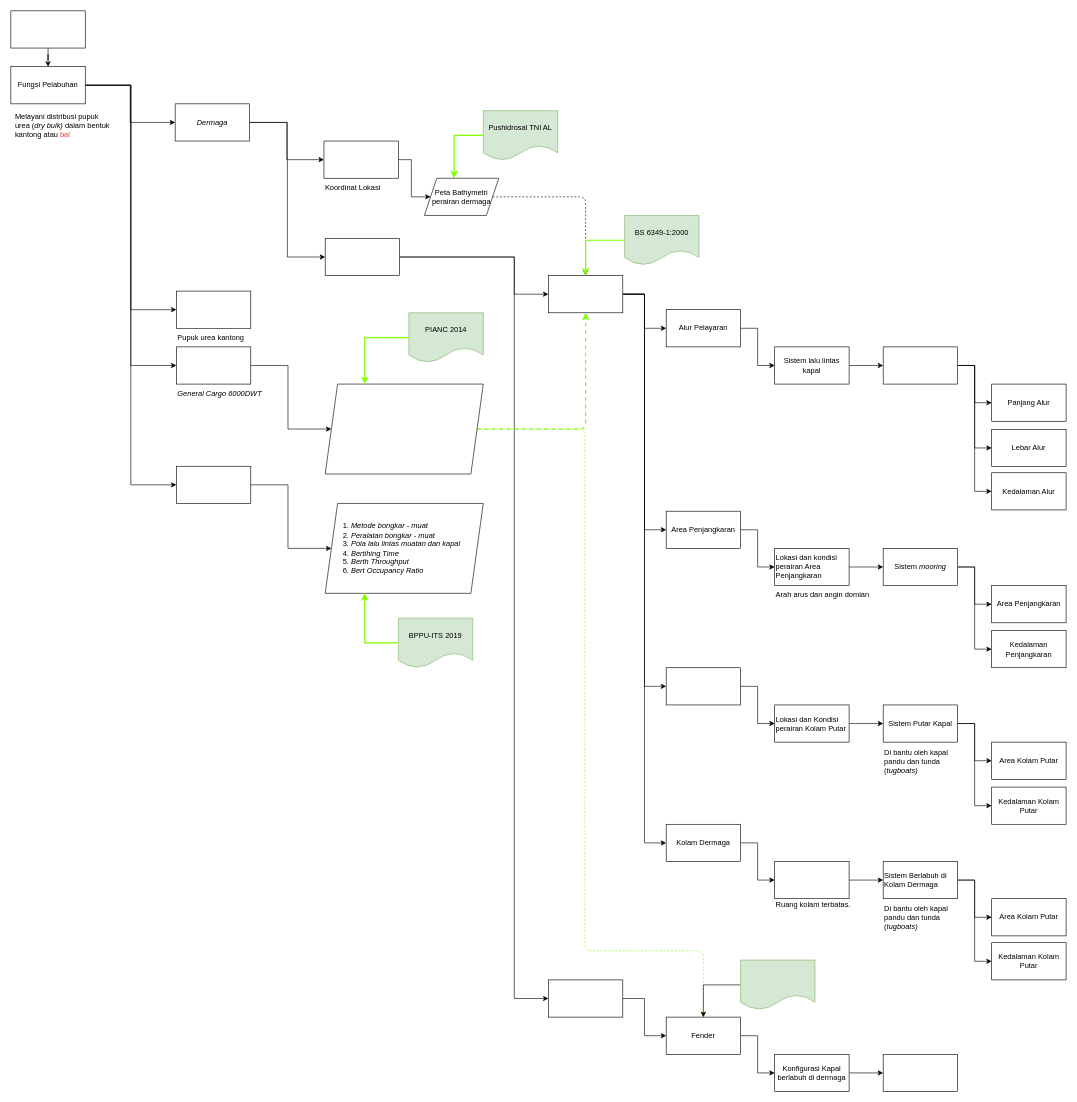
Some shapes in this 1077 by 1102 pixel diagram are drawn without their labels. The shapes that lost their labels are listed below. From the top down, each one's centre as x and y in pixels, then its label:
[47,29]: Perencanaan Pelabuhan
[360,159]: Lokasi Dermaga
[362,257]: Open-Wharf Type
[213,309]: Jenis Muatan
[585,294]: Fasilitas Perairan
[213,365]: Jenis Kapal
[920,365]: Aligenment
[404,428]: Displacement Tonnage LOA LBP Breadth Draft Kecepatan Berlabuh Kapal
[213,484]: Cargo Handling System
[703,686]: Kolam Putar
[811,880]: Kondisi perairan Kolam Putar
[585,998]: Fasilitas Daratan
[777,984]: BS 6349-4:2014
[920,1073]: Energi tumbukan kapal
